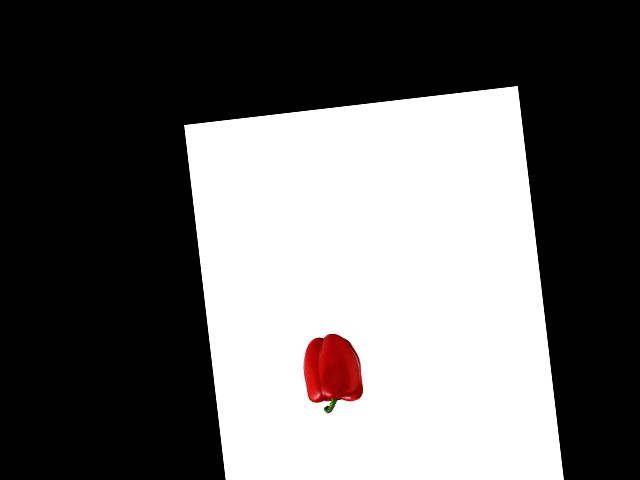bell_pepper: (296, 328, 369, 415)
